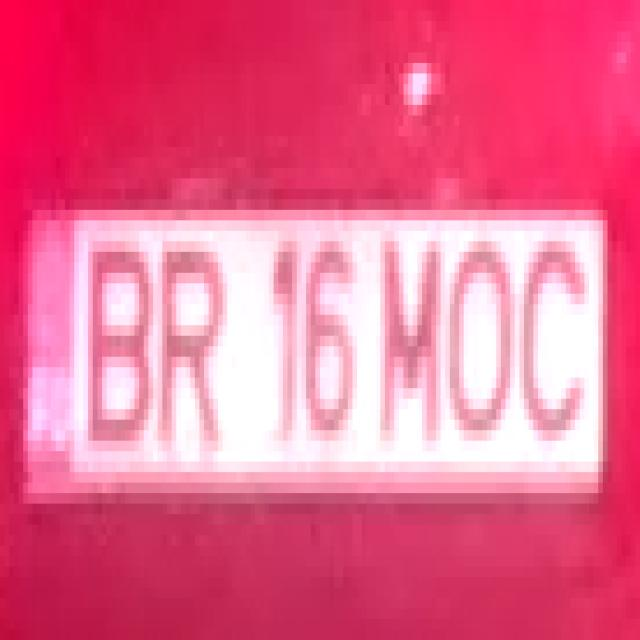EU: (23, 207, 605, 506)
Romanie: (28, 222, 72, 487)
